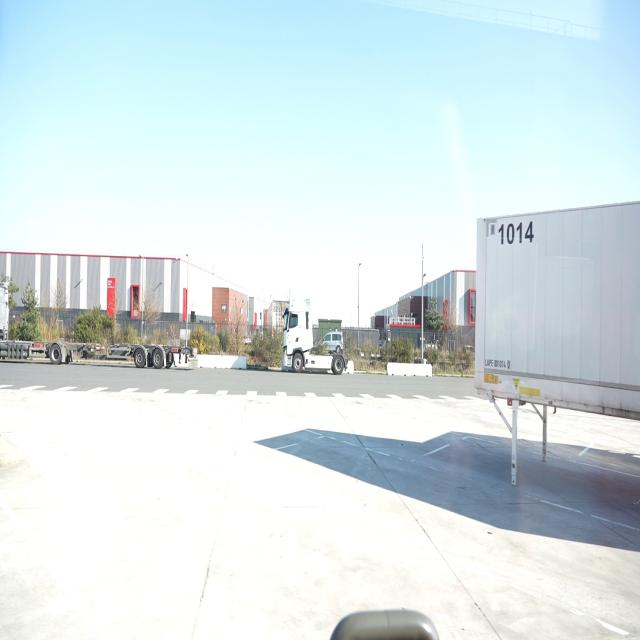Code: (496, 217, 536, 250)
